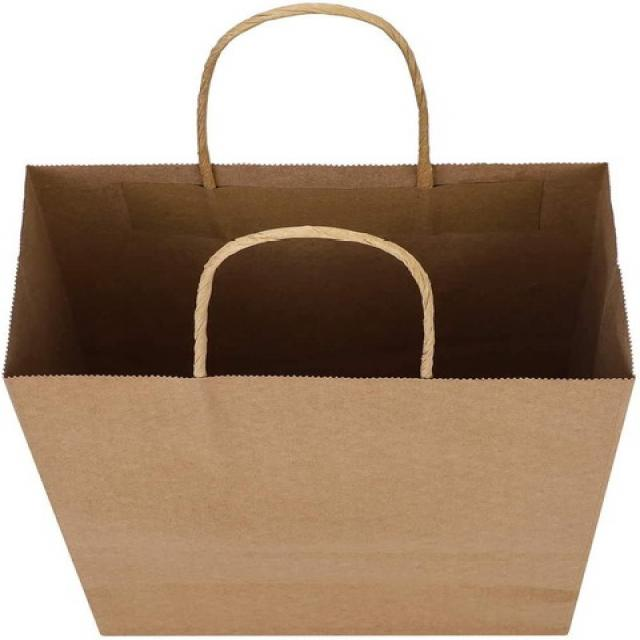paper bag: (5, 1, 638, 640)
